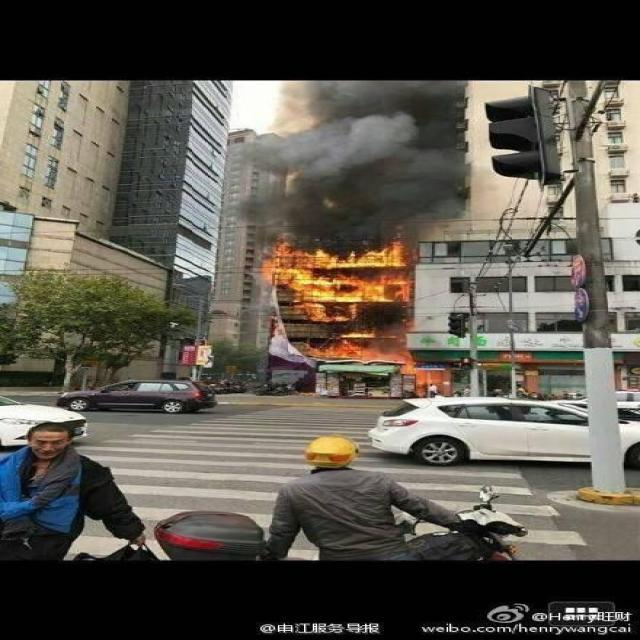Fire: (240, 240, 448, 374)
Smoke: (212, 79, 476, 235)
